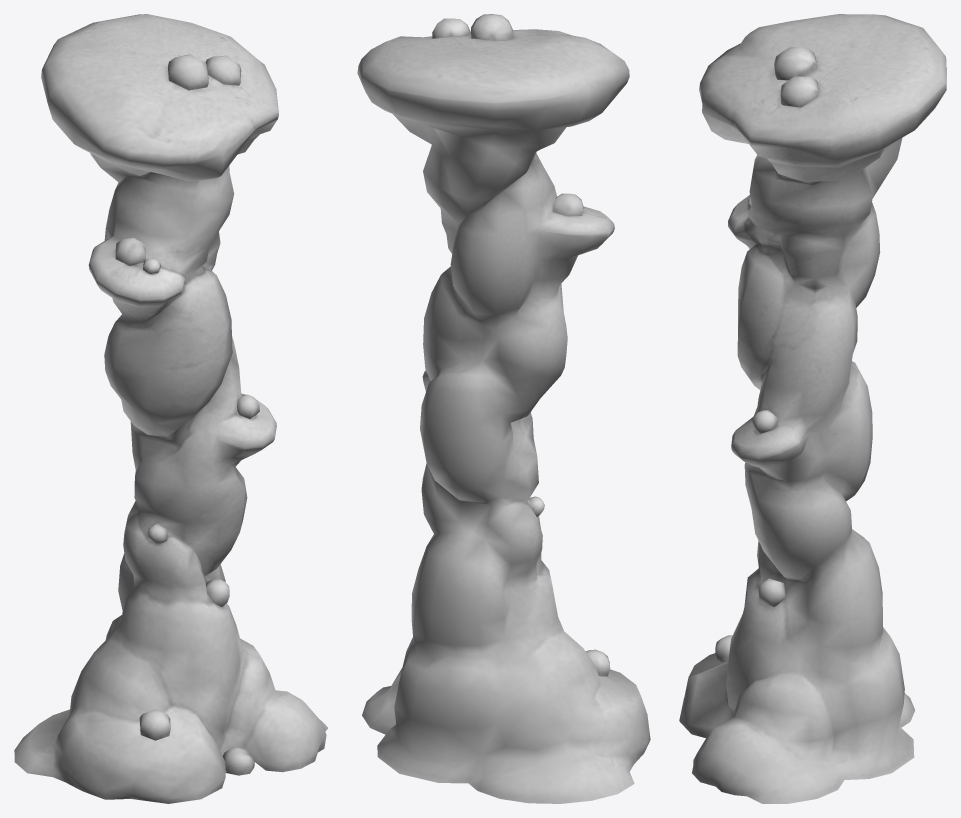
File: cave-pillar.glb
The picture shows the model from 3 angles, left to right: view 1: azimuth 30°, elevation 25°; view 2: azimuth 150°, elevation 25°; view 3: azimuth 270°, elevation 25°; orthographic projection. The views are drawn at different scales.
Parts seen in each view (by area): view 1: cave pillar; view 2: cave pillar; view 3: cave pillar.
Boxes of the visible parts, left/top/right/bottom form: cave pillar: left=14, top=14, right=327, bottom=803; cave pillar: left=357, top=14, right=650, bottom=803; cave pillar: left=679, top=14, right=946, bottom=803.
Bounding box in the file's own units: 0.4136 × 0.9995 × 0.3491.
Materials: 1 (1 with a texture image).
